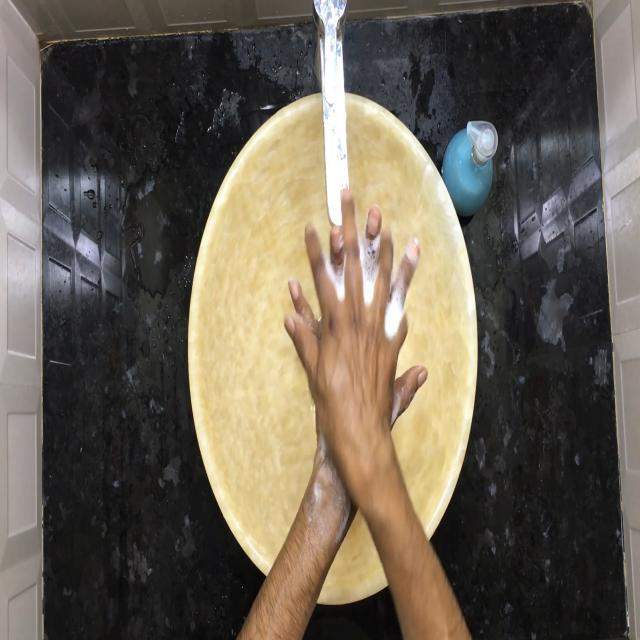step_2: (280, 184, 436, 444)
